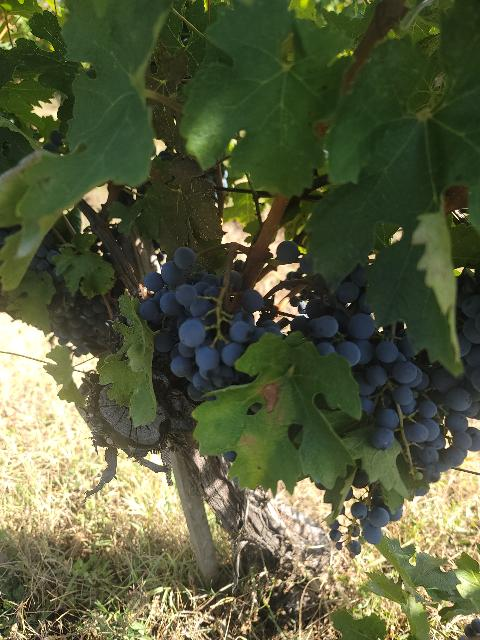grapes: (316, 310, 480, 482), (139, 246, 282, 401), (351, 501, 401, 542)
